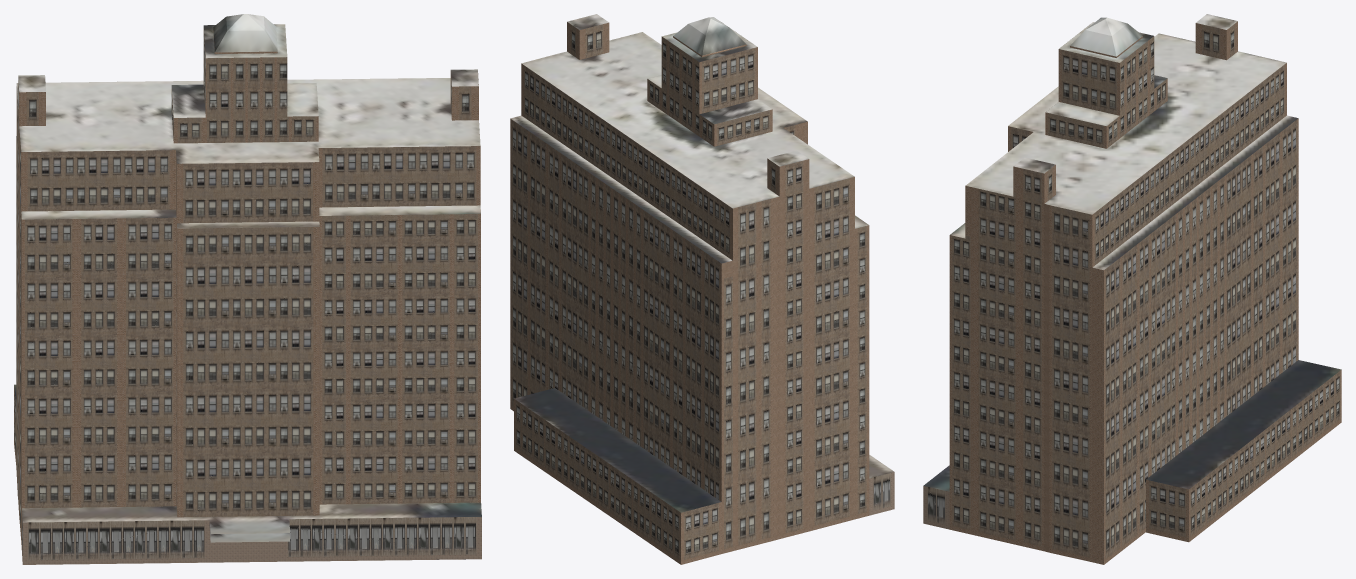
Rendered from building01.fbx.
3 views of the same model, side by side, from view 1: azimuth 30°, elevation 25°; view 2: azimuth 150°, elevation 25°; view 3: azimuth 270°, elevation 25° (orthographic). The views are drawn at different scales.
Visible parts, largest first — view 1: geometryt040100010000000110110100010110110100000st158_B_8b4c, geometryt040100010000000110110100010110110100000st161_B_5bbc, geometryt040100010000000110110100010110110100000st159_B_0823, Object.707, geometryt040100010000000110110100010110110100000st157_B_a5ad; view 2: geometryt040100010000000110110100010110110100000st158_B_8b4c, geometryt040100010000000110110100010110110100000st159_B_0823, geometryt040100010000000110110100010110110100000st161_B_5bbc, Object.707; view 3: geometryt040100010000000110110100010110110100000st158_B_8b4c, geometryt040100010000000110110100010110110100000st159_B_0823, geometryt040100010000000110110100010110110100000st161_B_5bbc, Object.707.
Part boxes in pixels (x1,y1,x2,y2): geometryt040100010000000110110100010110110100000st158_B_8b4c: (14,29,479,539); geometryt040100010000000110110100010110110100000st161_B_5bbc: (14,14,481,564); geometryt040100010000000110110100010110110100000st159_B_0823: (14,31,480,549); Object.707: (22,514,476,560); geometryt040100010000000110110100010110110100000st157_B_a5ad: (22,517,481,564); geometryt040100010000000110110100010110110100000st158_B_8b4c: (511,24,866,559); geometryt040100010000000110110100010110110100000st159_B_0823: (510,22,869,564); geometryt040100010000000110110100010110110100000st161_B_5bbc: (510,14,894,512); Object.707: (873,473,890,510); geometryt040100010000000110110100010110110100000st158_B_8b4c: (952,24,1340,559); geometryt040100010000000110110100010110110100000st159_B_0823: (949,21,1341,564); geometryt040100010000000110110100010110110100000st161_B_5bbc: (923,14,1341,491); Object.707: (927,487,945,524).
Bounding box in the file's own units: 5494 × 5920 × 5019.
5 materials, 5 textured.
